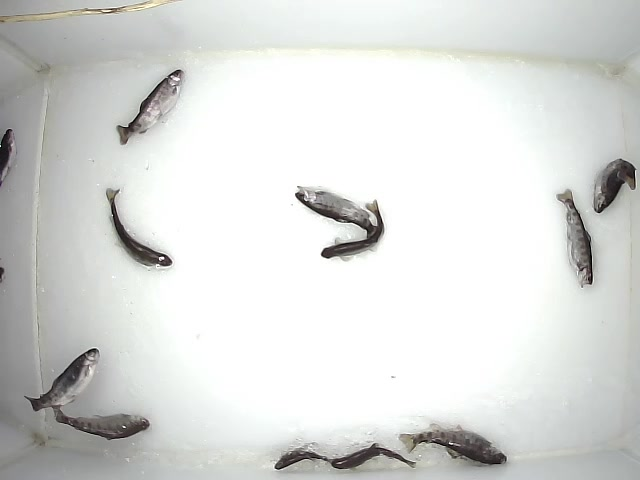fish: (102, 184, 173, 269), (114, 67, 183, 146), (292, 183, 383, 242), (22, 347, 100, 414), (398, 422, 509, 467), (318, 199, 384, 262), (553, 187, 594, 288), (52, 402, 151, 442), (329, 441, 418, 475), (590, 155, 637, 214), (272, 443, 333, 471)
